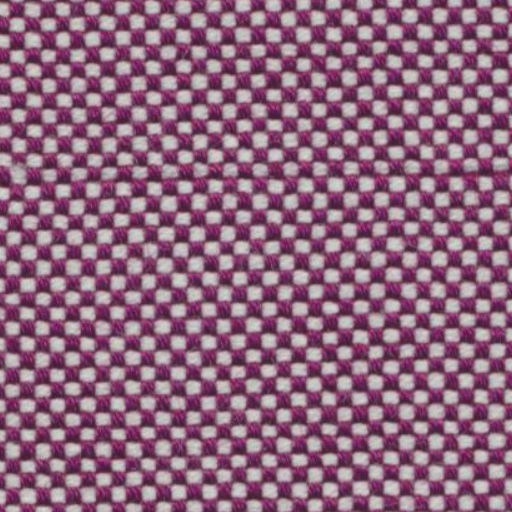TuoSha: (14, 138, 502, 194)
